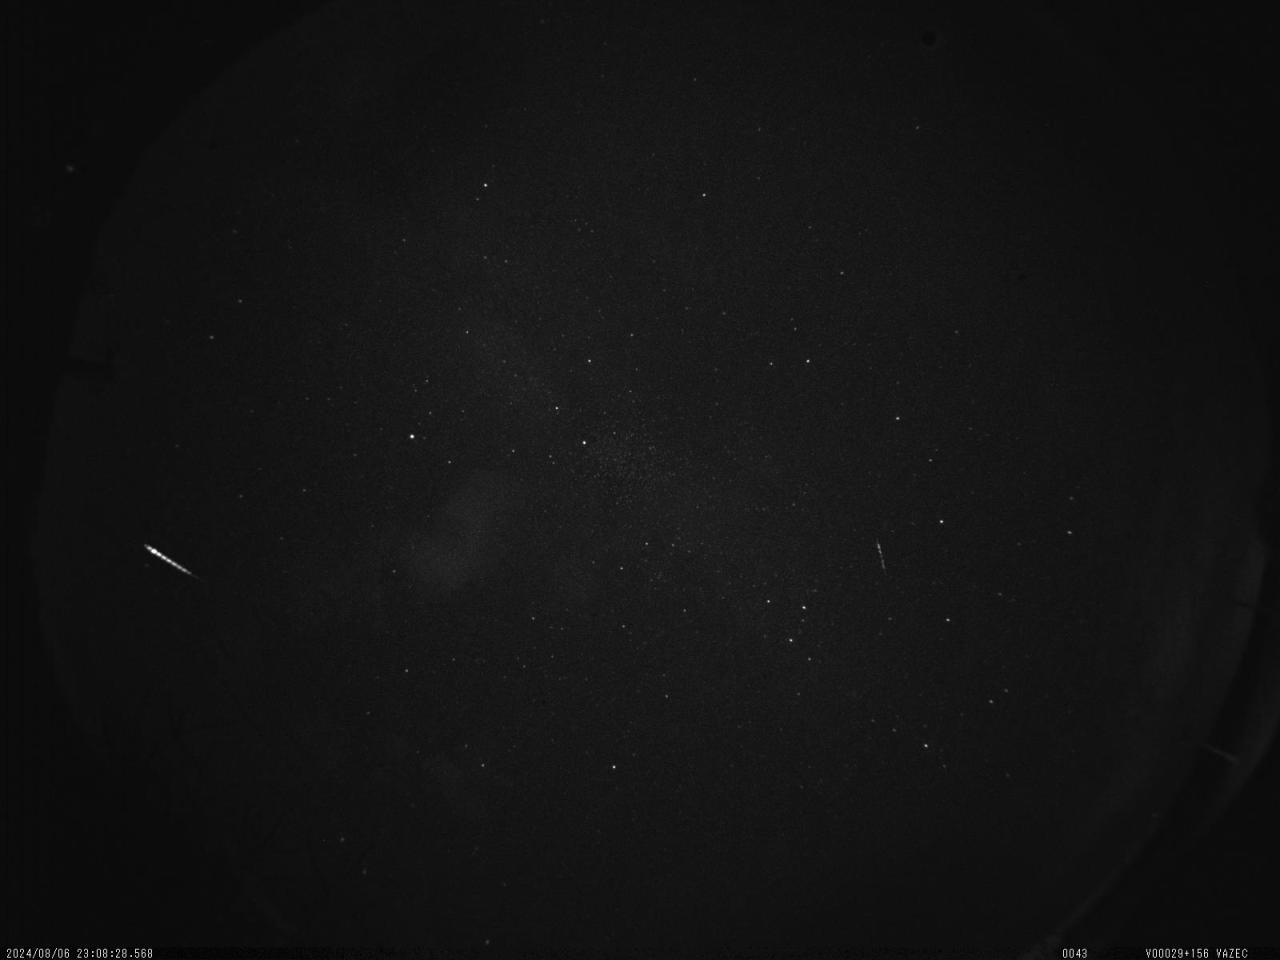Meteor: (141, 539, 201, 579), (875, 535, 892, 576)
